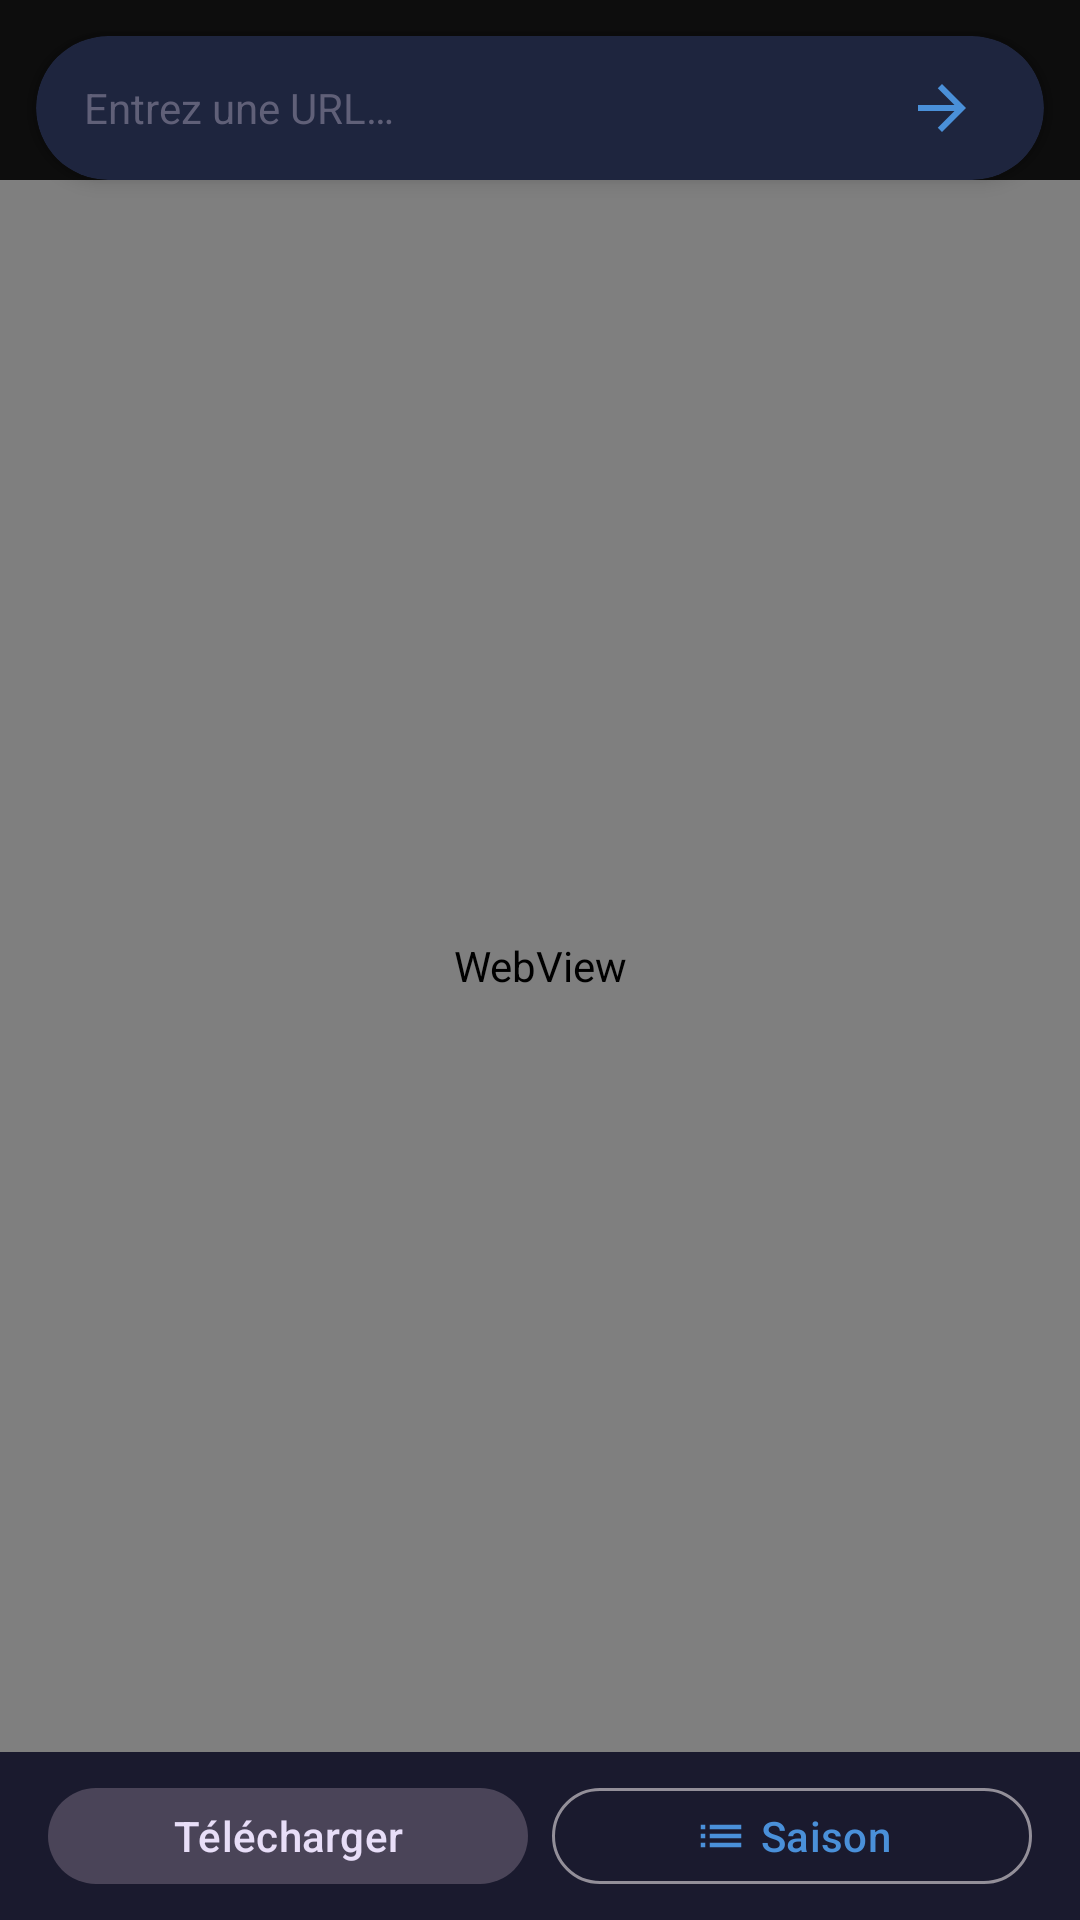

Icon click points for this 1080px x 1920px phone screenshot, format (x=x, y=y):
Aller: (x=942, y=108)
